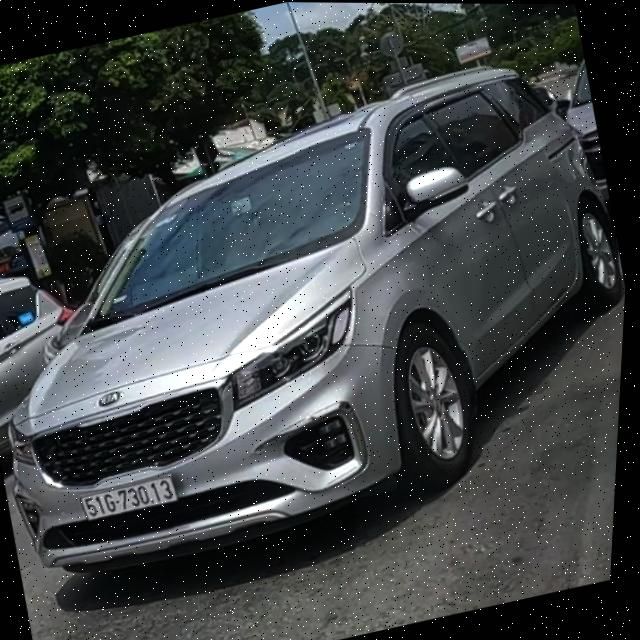car: (0, 41, 638, 589)
plate: (66, 460, 191, 530)
